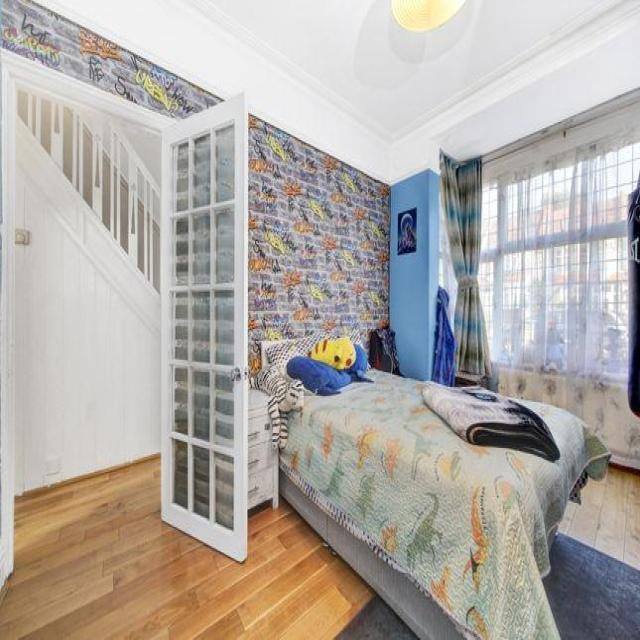Wall: (40, 0, 640, 184), (0, 458, 413, 639), (249, 116, 390, 374), (0, 1, 219, 118), (544, 467, 640, 639), (390, 169, 440, 380)
